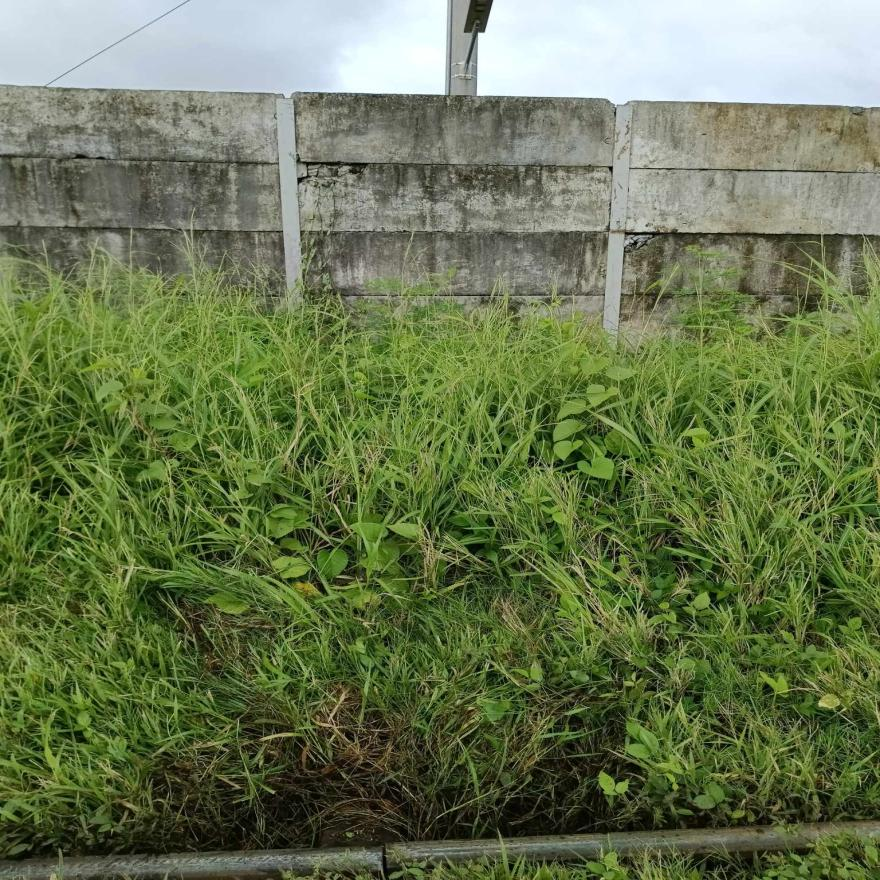railway-gap: (283, 831, 476, 880)
